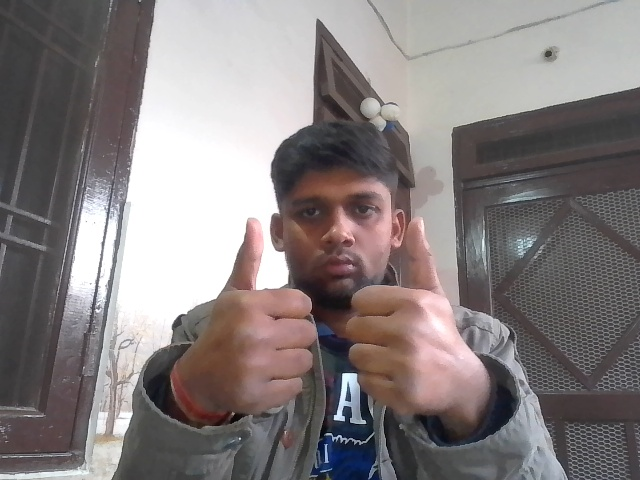Excellent: (194, 213, 467, 412)
